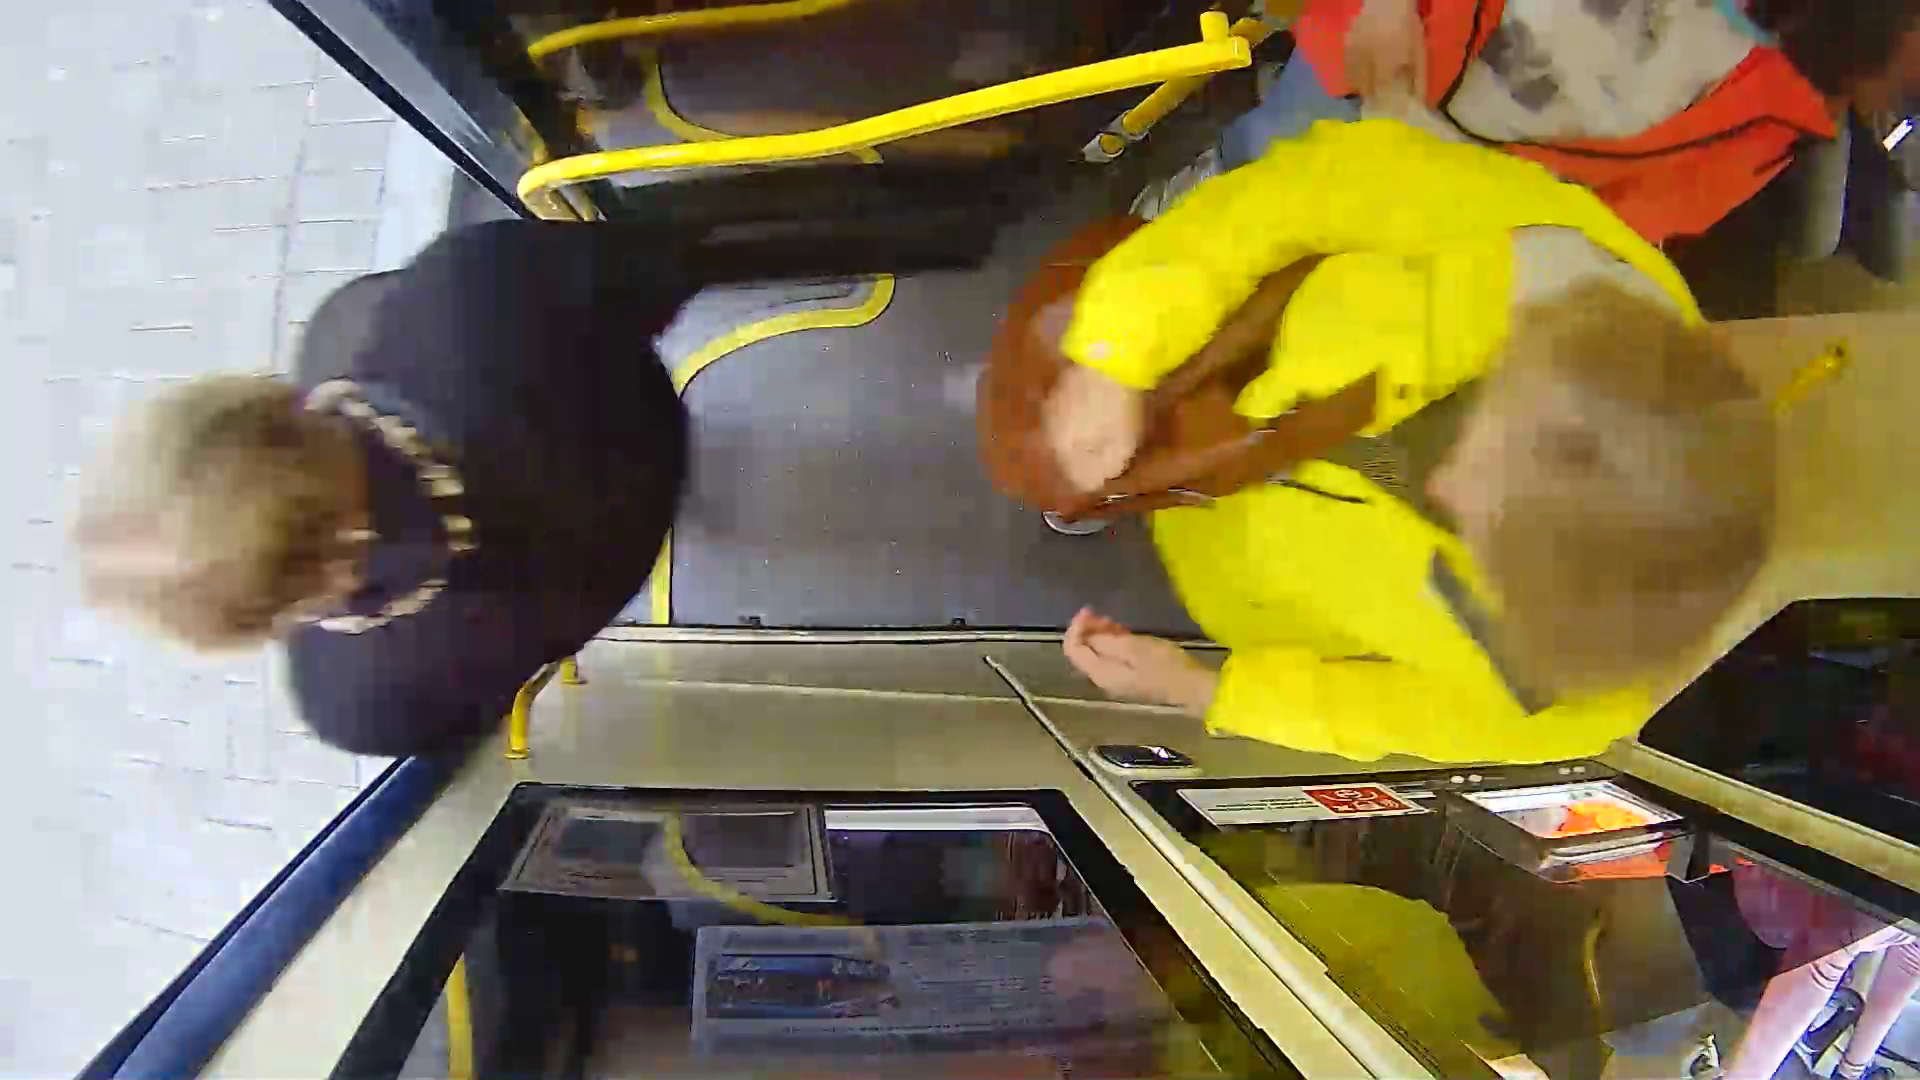person: (960, 145, 1764, 758), (70, 251, 779, 731)
